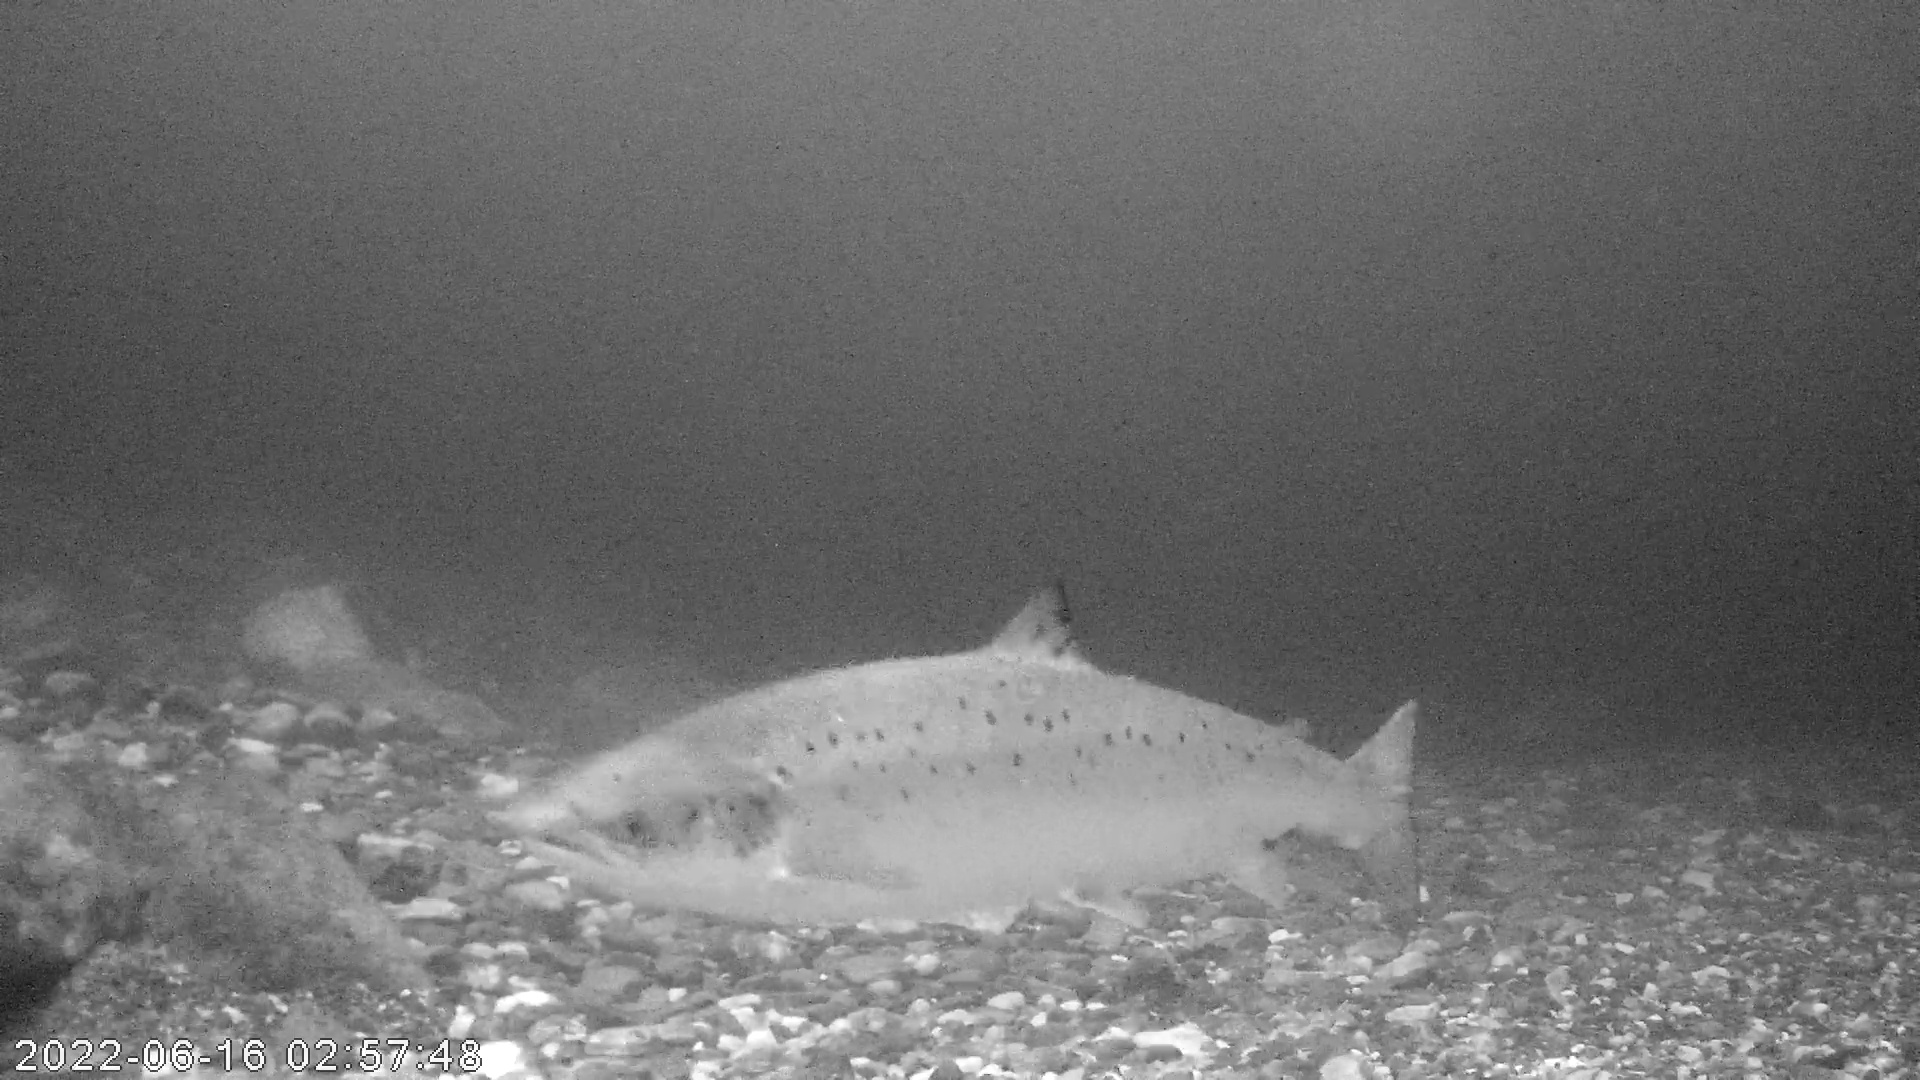salmon: (517, 576, 1428, 934)
